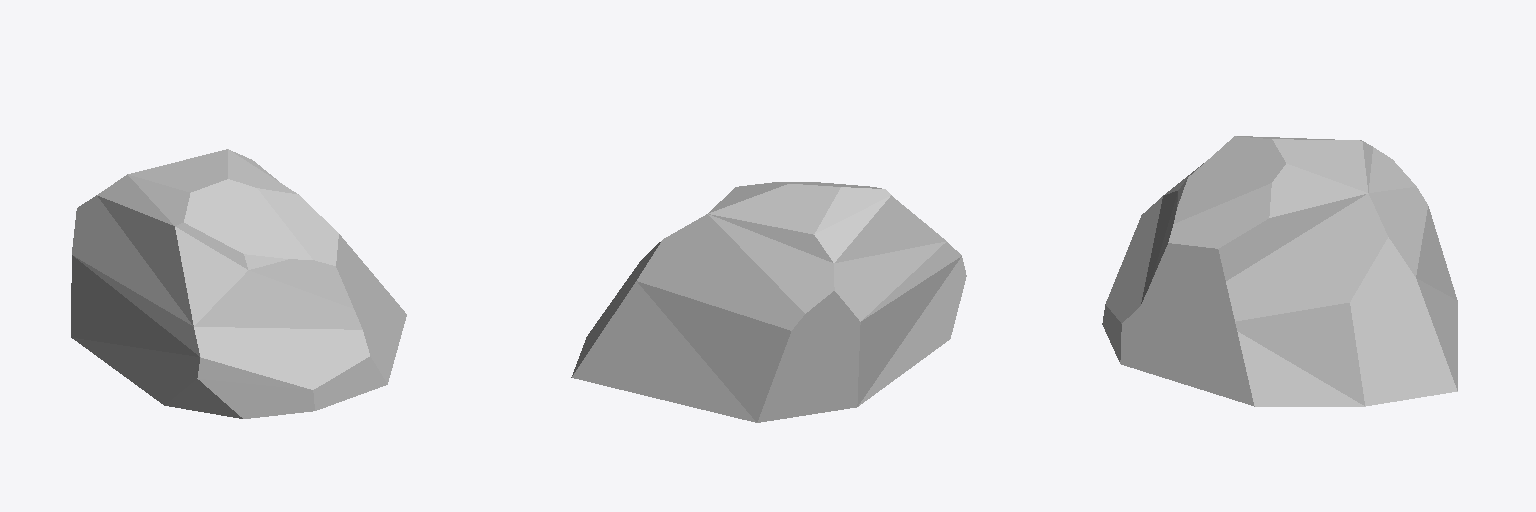
The model's file is rock_3.obj.
3 renders of one model, left to right at view 1: azimuth 30°, elevation 25°; view 2: azimuth 150°, elevation 25°; view 3: azimuth 270°, elevation 25°, orthographic.
Parts seen in each view (by area): view 1: rock_3; view 2: rock_3; view 3: rock_3.
Boxes of the visible parts, box(x1,y1,x2,y2) form: rock_3: box(71, 149, 406, 418); rock_3: box(571, 182, 966, 422); rock_3: box(1102, 136, 1457, 406).
Bounding box in the file's own units: 0.3037 × 0.174 × 0.3376.